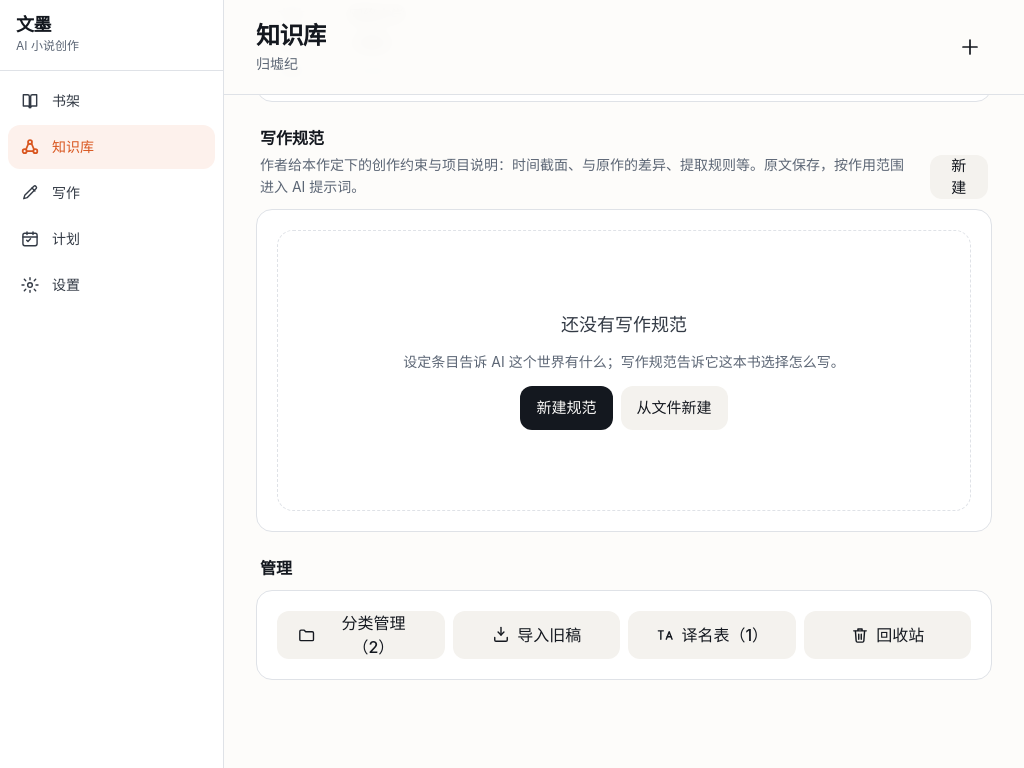
Scenario: 从译名表跳到对不上的那一章 › 外传章节点过去打开那一章的外传编辑器
(page scrolled)
Click the button "译名表（1）": {"x": 712, "y": 635} [628, 611, 796, 659]
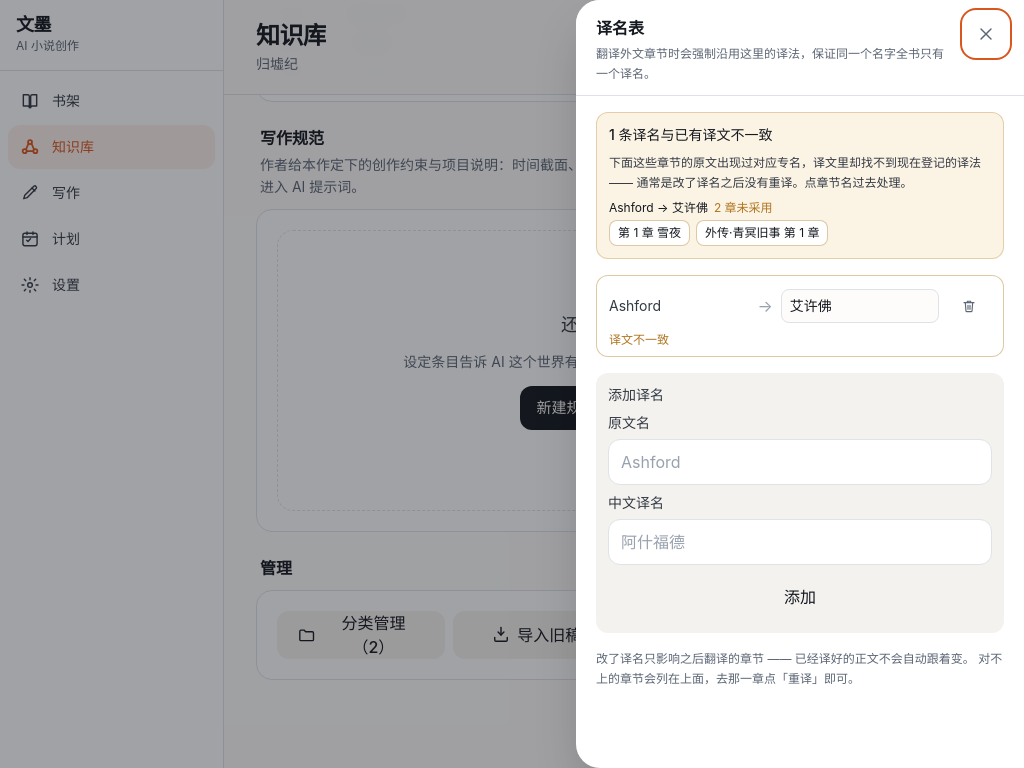
Click the button "外传·青冥旧事 第 1 章": {"x": 762, "y": 233} [696, 220, 828, 246]
(page scrolled)
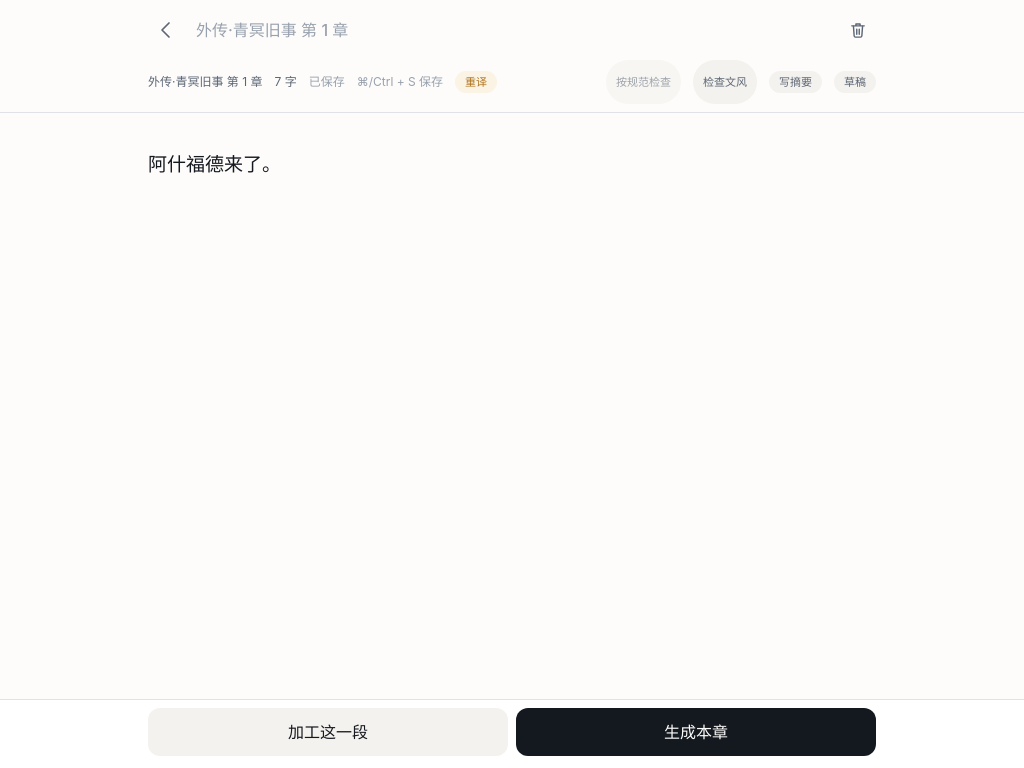
Result: the dialog named "编辑外传《青冥旧事》第 1 章" shows "外传·青冥旧事 第 1 章" at [148, 74, 262, 89]
Result: the text box named "章节正文" holds "阿什福德来了。" at [144, 113, 880, 699]
